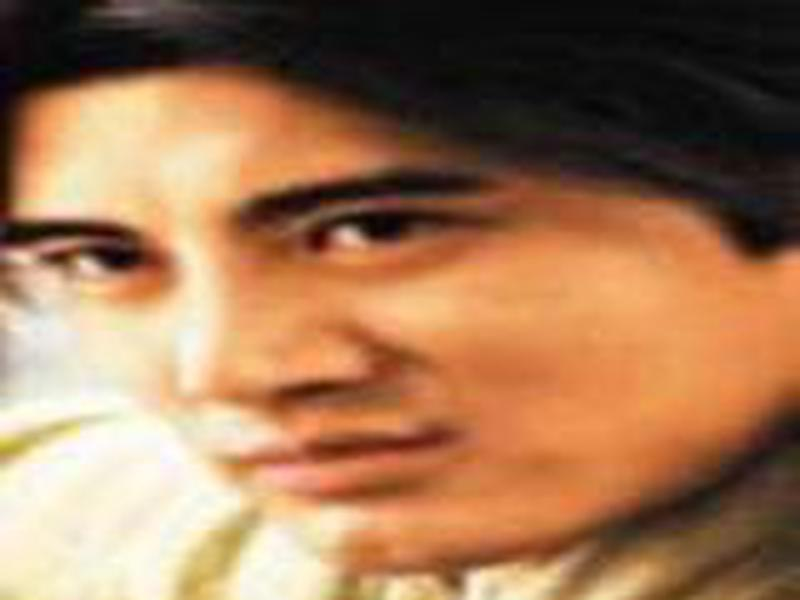without_mask: (12, 68, 793, 570)
